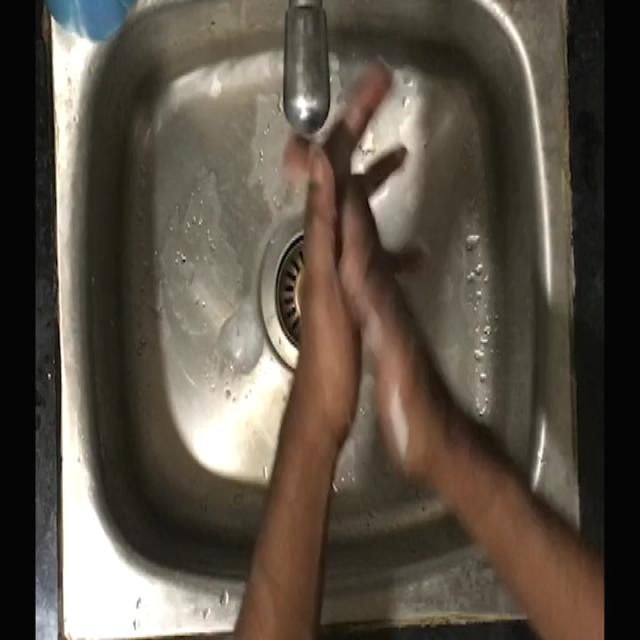step_3: (264, 45, 427, 428)
